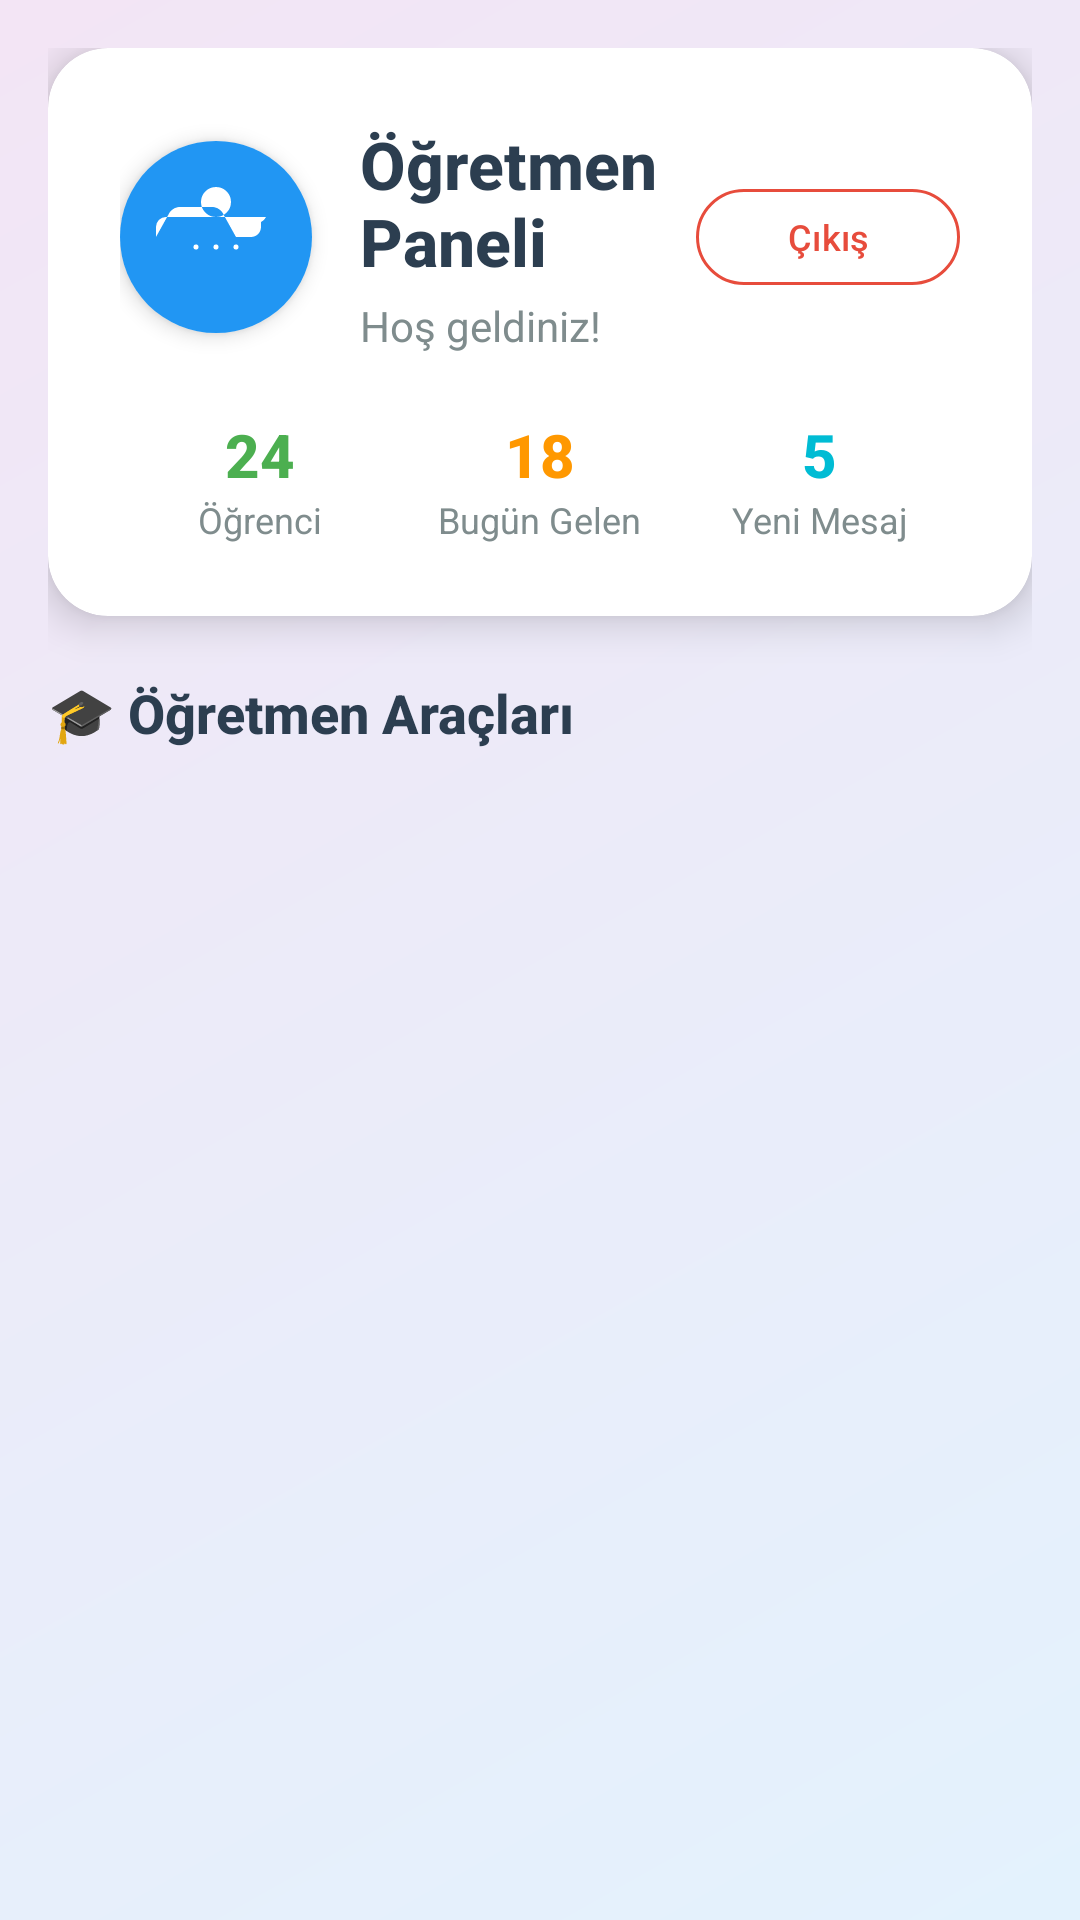

Screen size 1080px x 1920px. Icon name, then its center in pixels as point (x, y):
teacher: point (216, 237)
